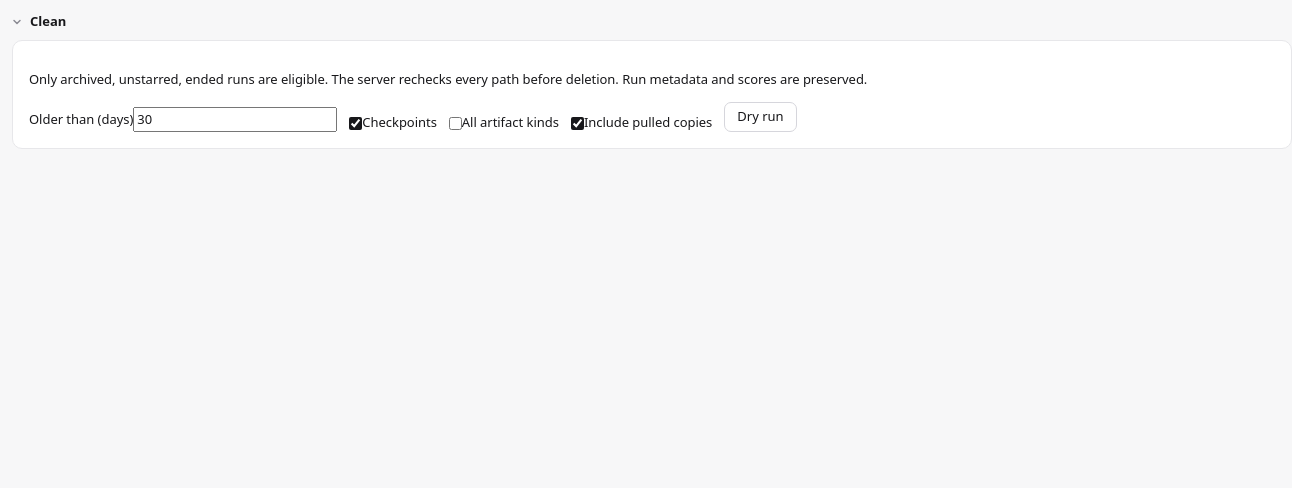
policy changes discard the old plan
Click the button "Dry run" at (760, 117), box [724, 102, 797, 132]
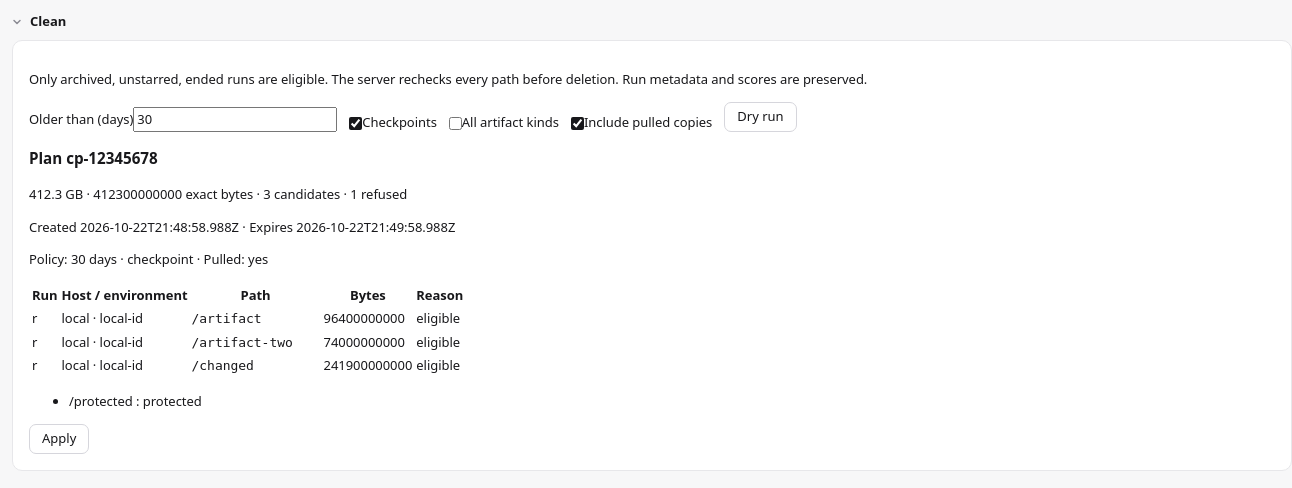
Now the heading "Plan cp-12345678" is shown, box [29, 148, 158, 168]
Replace the text in the field labelled "Older than (days)" with "40" at (235, 119), box [133, 106, 337, 132]
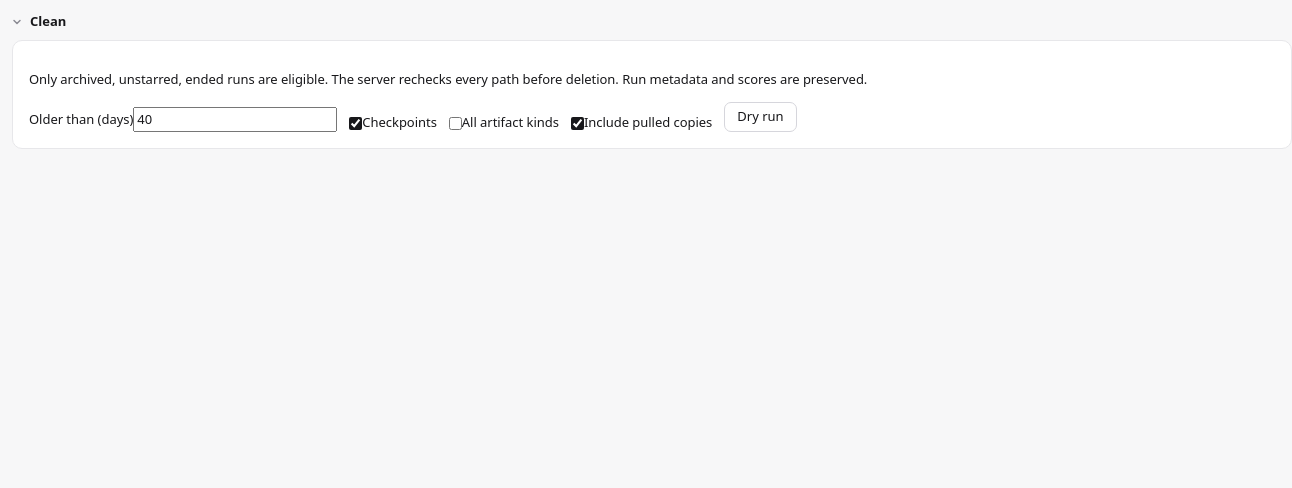
Now the heading "Plan cp-12345678" is gone
